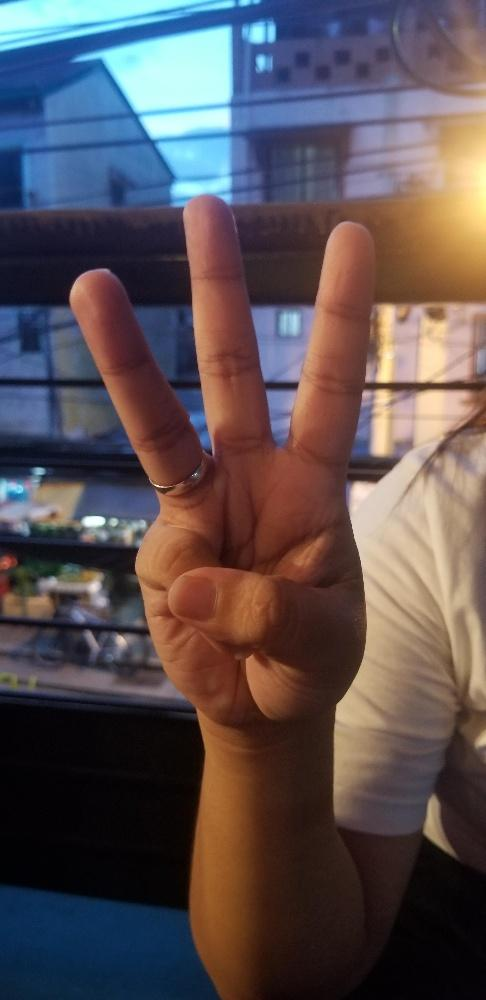w: (68, 192, 376, 726)
